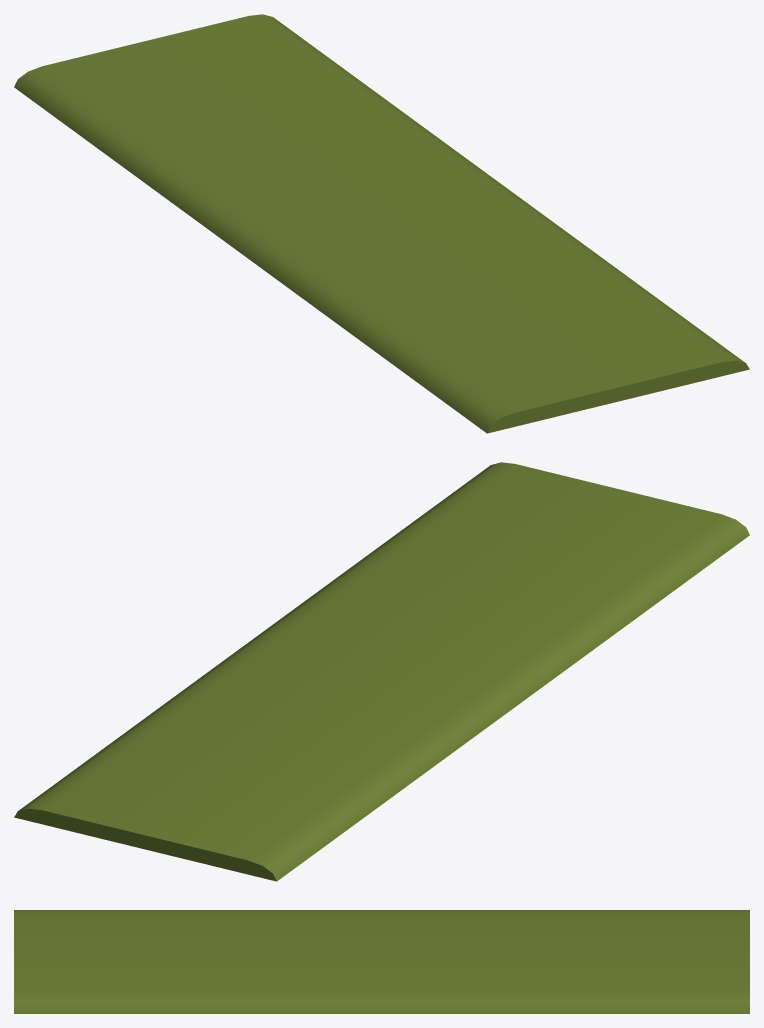
File: Floor (grass Posdaka).fbx
The picture shows the model from 3 angles, top to bottom: view 1: azimuth 30°, elevation 25°; view 2: azimuth 150°, elevation 25°; view 3: azimuth 270°, elevation 25°; orthographic projection. The views are drawn at different scales.
Parts seen in each view (by area): view 1: Floor (grass Posdaka); view 2: Floor (grass Posdaka); view 3: Floor (grass Posdaka).
Boxes of the visible parts, x1,y1,x2,y2 form: Floor (grass Posdaka): (14, 14, 749, 433); Floor (grass Posdaka): (14, 462, 749, 881); Floor (grass Posdaka): (14, 910, 749, 1013).
Bounding box in the file's own units: 15512 × 797 × 48364.
